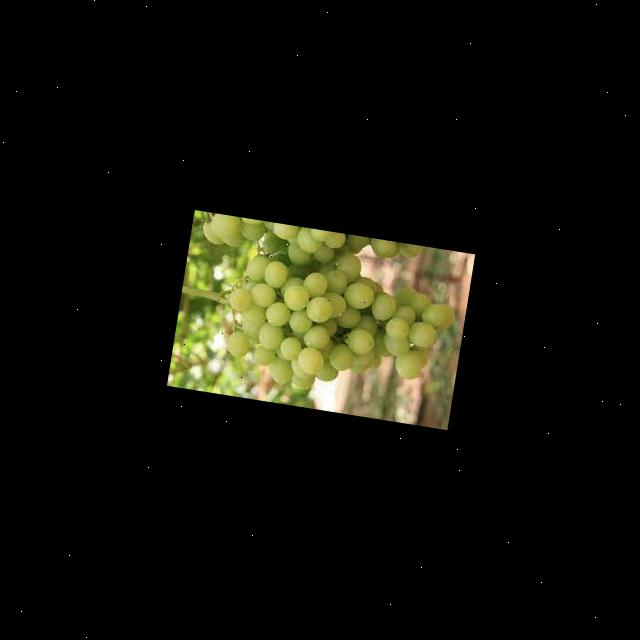grape: (174, 212, 464, 426)
